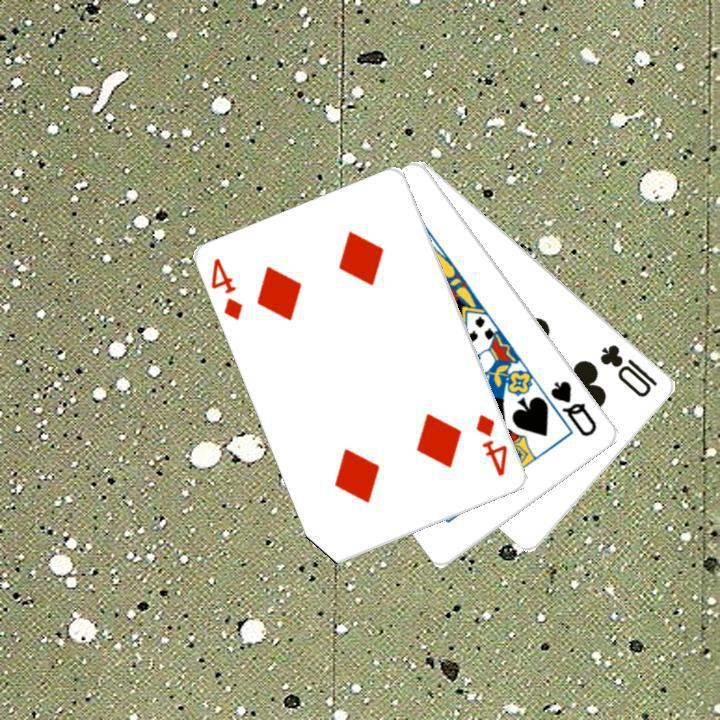10: (595, 339, 660, 400)
4: (207, 254, 246, 323), (472, 410, 510, 479)
Q: (546, 376, 600, 439)
